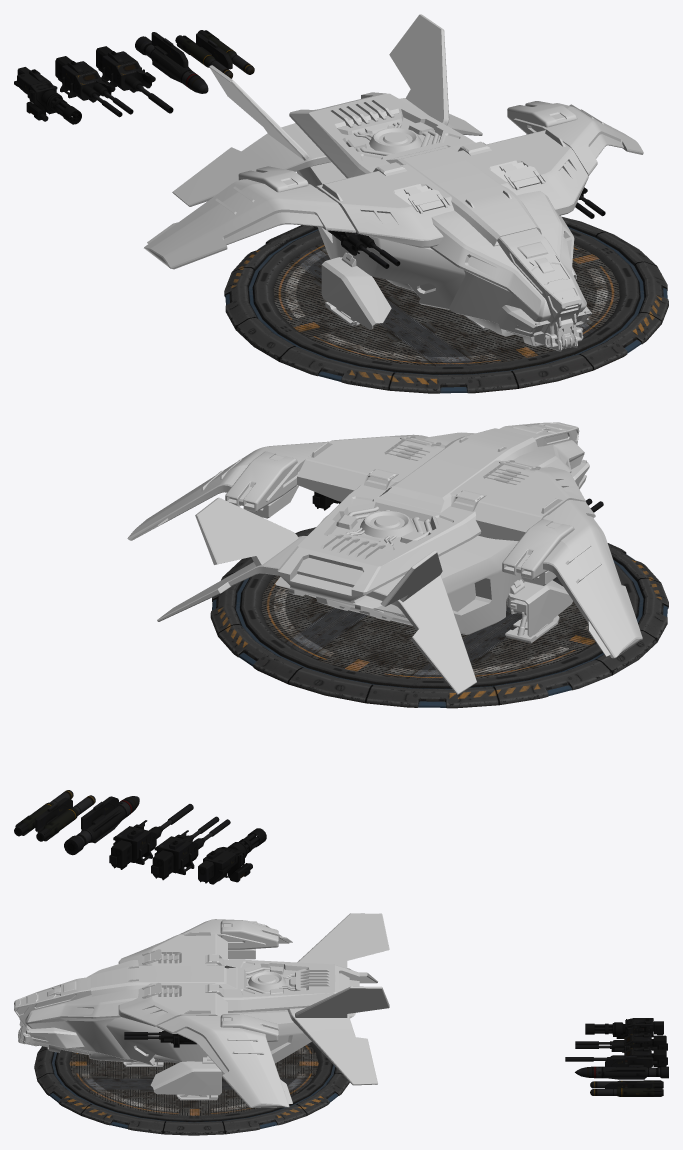
The model's file is RTS06_Dropship.obj.
3 renders of one model, top to bottom at view 1: azimuth 30°, elevation 25°; view 2: azimuth 150°, elevation 25°; view 3: azimuth 270°, elevation 25°, orthographic. The views are drawn at different scales.
Parts seen in each view (by area): view 1: RTS06_Dropship_Hull, Pedestal, RTS06_Dropship_Wings, RTS06_LandingGear_R, FW_MachineGun_X2, FW_MachineGun_X1, FW_MiniGun, FW_Missil_GBU, FW_MachineGun_X2_R, FW_Missil_Kraken, FW_Missil_Rack001; view 2: RTS06_Dropship_Hull, Pedestal, RTS06_Dropship_Wings, RTS06_LandingGear_R, FW_MachineGun_X2, FW_MachineGun_X1, FW_MiniGun, FW_Missil_GBU, FW_Missil_Kraken, RTS06_Dropship_Door; view 3: RTS06_Dropship_Hull, Pedestal, RTS06_Dropship_Wings, RTS06_LandingGear_L, FW_Missil_GBU, FW_MachineGun_X2, FW_MachineGun_X1, FW_MiniGun, FW_MachineGun_X2_L, FW_Missil_Kraken001, FW_Missil_Rack001, FW_Missil_Rack.
Boxes of the visible parts, x1,y1,x2,y2 form: RTS06_Dropship_Hull: (172,14,592,351); Pedestal: (224,217,668,393); RTS06_Dropship_Wings: (144,101,643,269); RTS06_LandingGear_R: (321,252,391,329); FW_MachineGun_X2: (55,56,133,117); FW_MachineGun_X1: (96,46,173,113); FW_MiniGun: (14,67,62,121); FW_Missil_GBU: (135,36,208,93); FW_MachineGun_X2_R: (328,230,400,268); FW_Missil_Kraken: (175,35,232,78); FW_Missil_Rack001: (151,32,188,67); RTS06_Dropship_Hull: (157,422,589,694); Pedestal: (210,527,668,708); RTS06_Dropship_Wings: (127,441,642,658); RTS06_LandingGear_R: (505,579,572,643); FW_MachineGun_X2: (151,816,230,880); FW_MachineGun_X1: (109,804,193,869); FW_MiniGun: (198,842,252,884); FW_Missil_GBU: (64,796,139,855); FW_Missil_Kraken: (36,795,95,841); RTS06_Dropship_Door: (306,593,412,625); RTS06_Dropship_Hull: (14,913,389,1085); Pedestal: (34,1042,349,1135); RTS06_Dropship_Wings: (157,919,292,1107); RTS06_LandingGear_L: (150,1056,221,1100); FW_Missil_GBU: (575,1066,668,1079); FW_MachineGun_X2: (575,1032,667,1052); FW_MachineGun_X1: (565,1046,667,1067); FW_MiniGun: (613,1018,663,1038); FW_MachineGun_X2_L: (124,1030,196,1047); FW_Missil_Kraken001: (590,1088,663,1096); FW_Missil_Rack001: (605,1056,653,1067); FW_Missil_Rack: (605,1080,653,1088).
Bounding box in the file's own units: 180 × 63.75 × 300.
